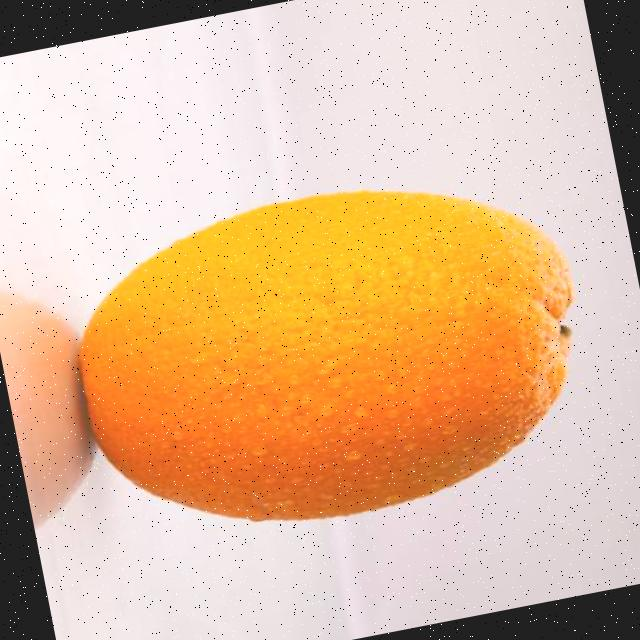Ripe: (47, 142, 612, 564)
